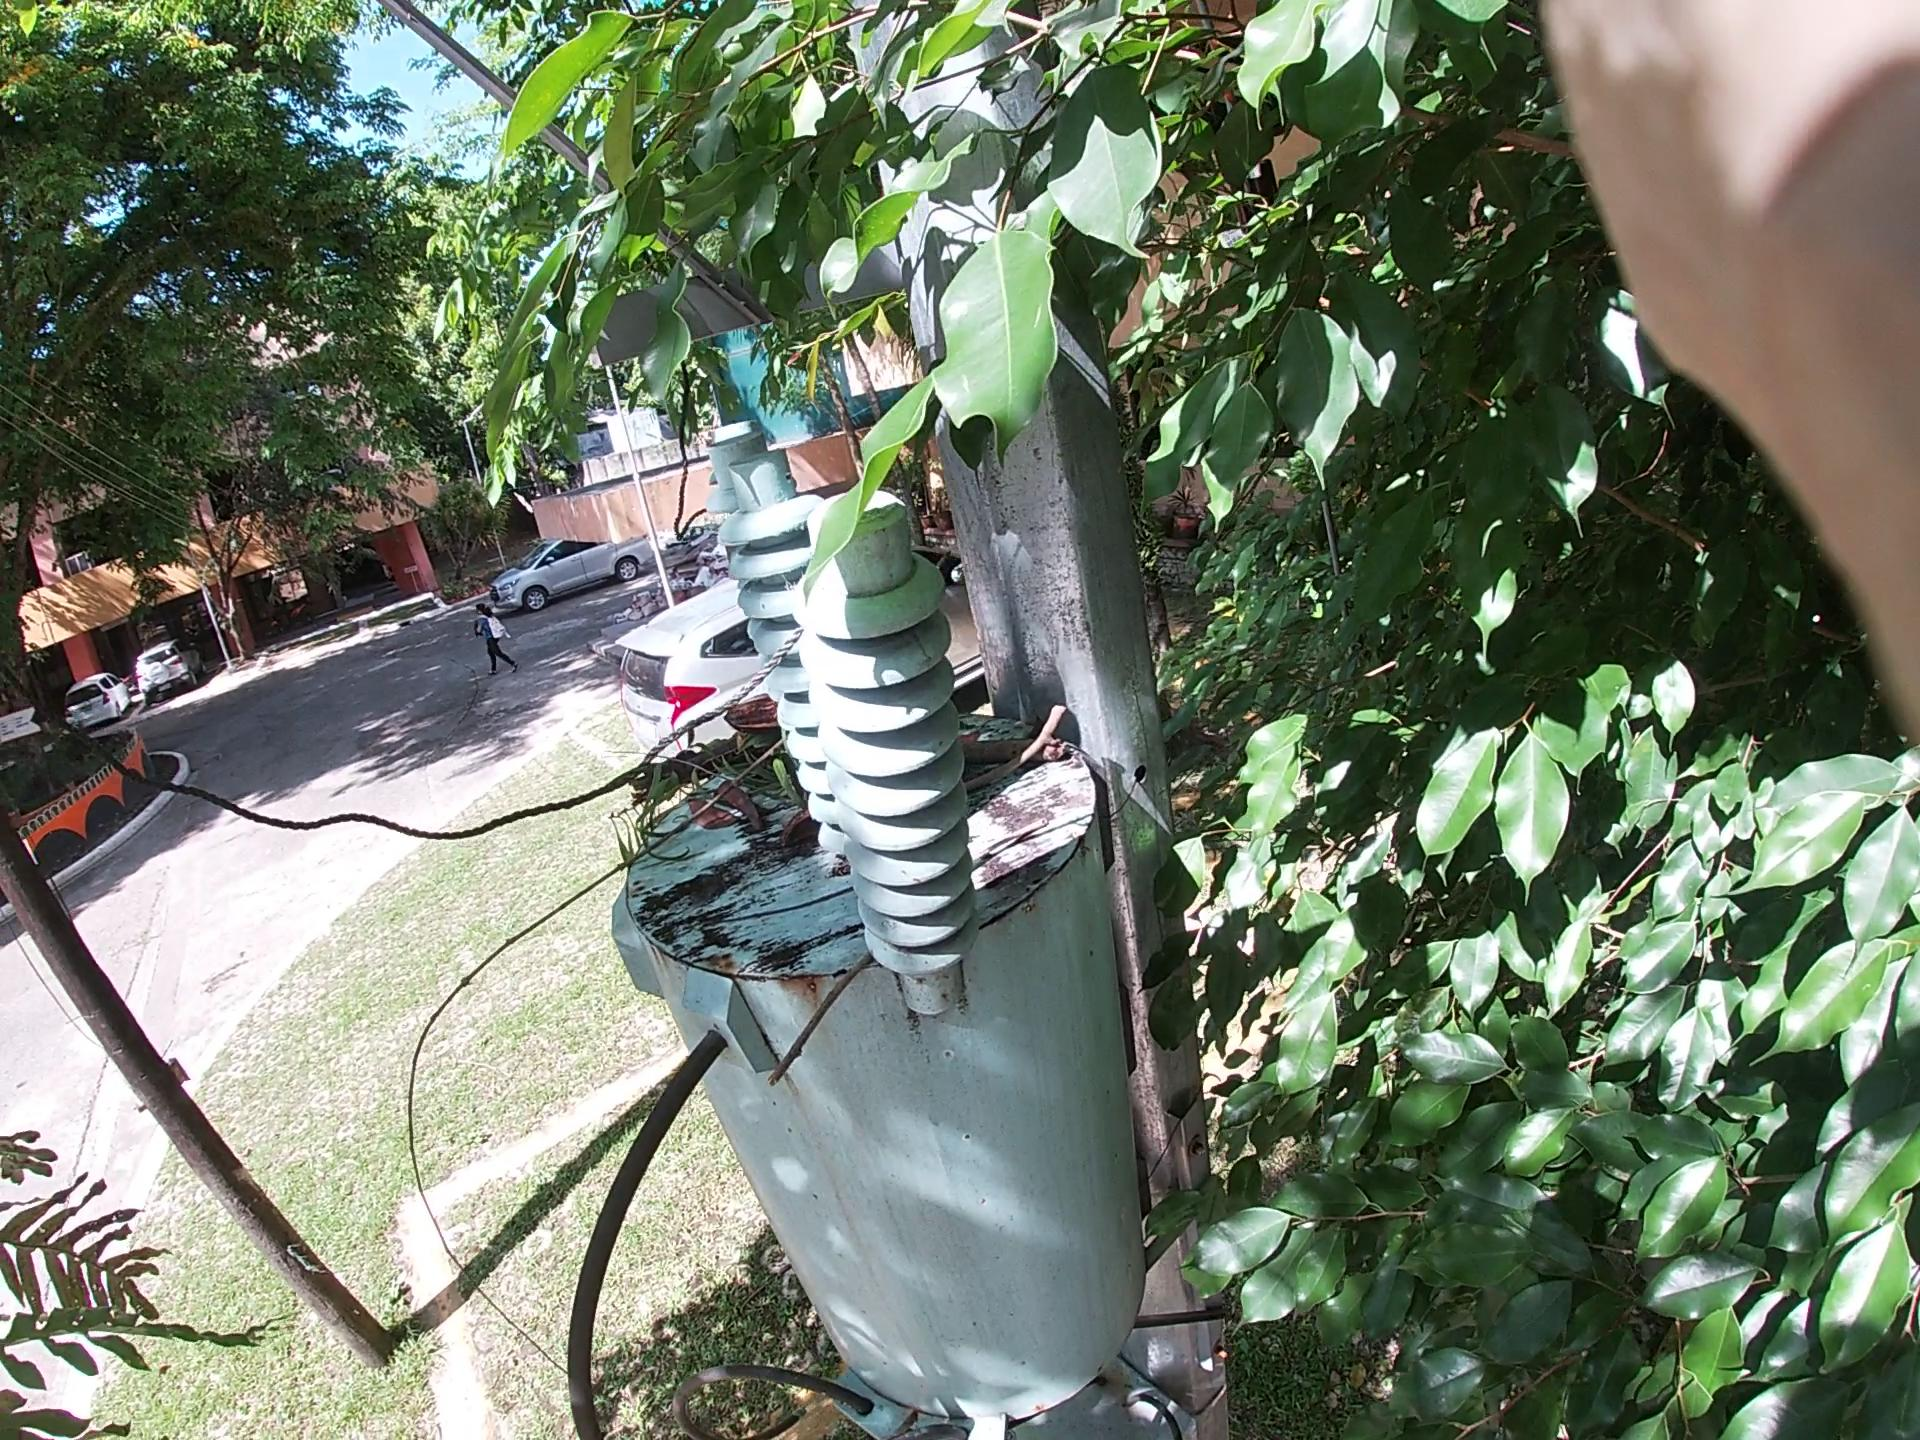branch with leaves: (603, 637, 918, 862)
leaf: (679, 765, 759, 835)
mahogany fruit: (680, 675, 797, 765), (759, 802, 830, 858)
tree branch: (479, 712, 838, 1284), (763, 697, 1054, 853), (757, 930, 887, 1075)
